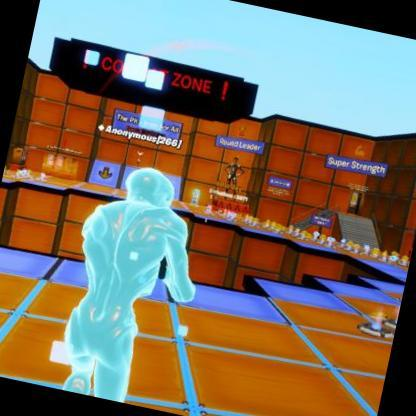person: (216, 155, 246, 204), (133, 157, 140, 165)
